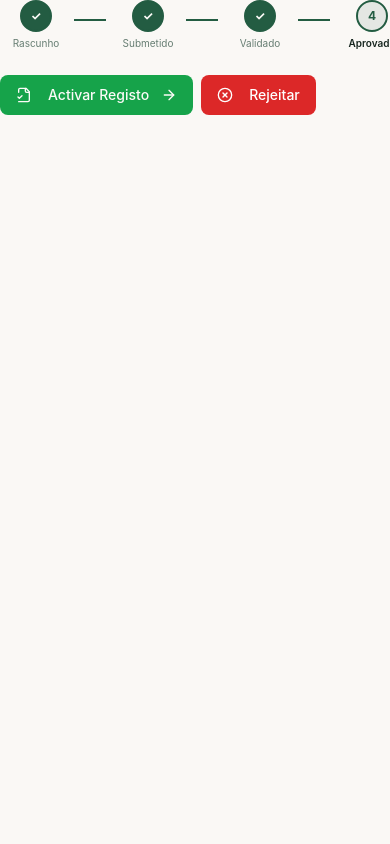
WorkflowActions — E2E DOM: transição approved → issued/active › Confirmação E2E — audit log + toast › rejeição em approved sem motivo bloqueia a confirmação
Click the button "Rejeitar".
click(258, 95)  # box [201,75,316,115]
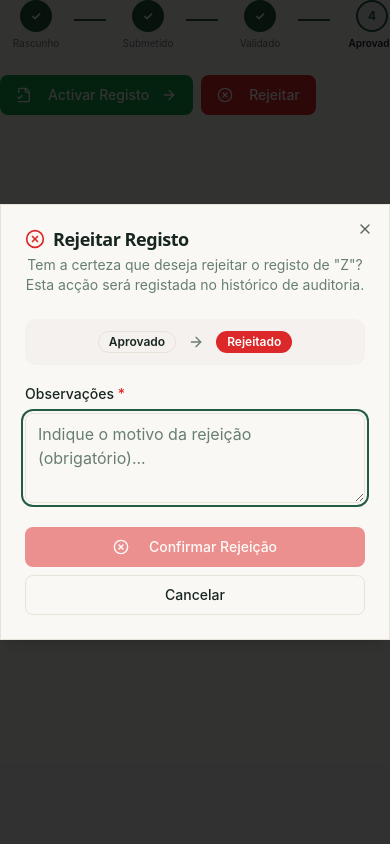
Expected: the button "Confirmar Rejeição" is disabled, [25,527,365,567]
